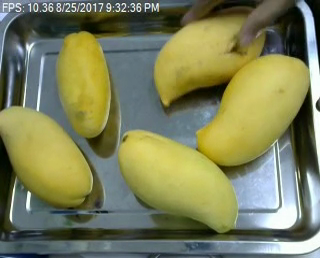Mango: (194, 55, 309, 165), (119, 130, 237, 234), (152, 6, 266, 108), (0, 105, 92, 205), (55, 29, 110, 138)
